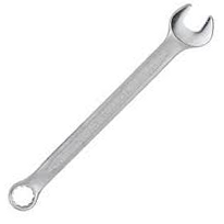Wrench: (5, 2, 218, 211)
